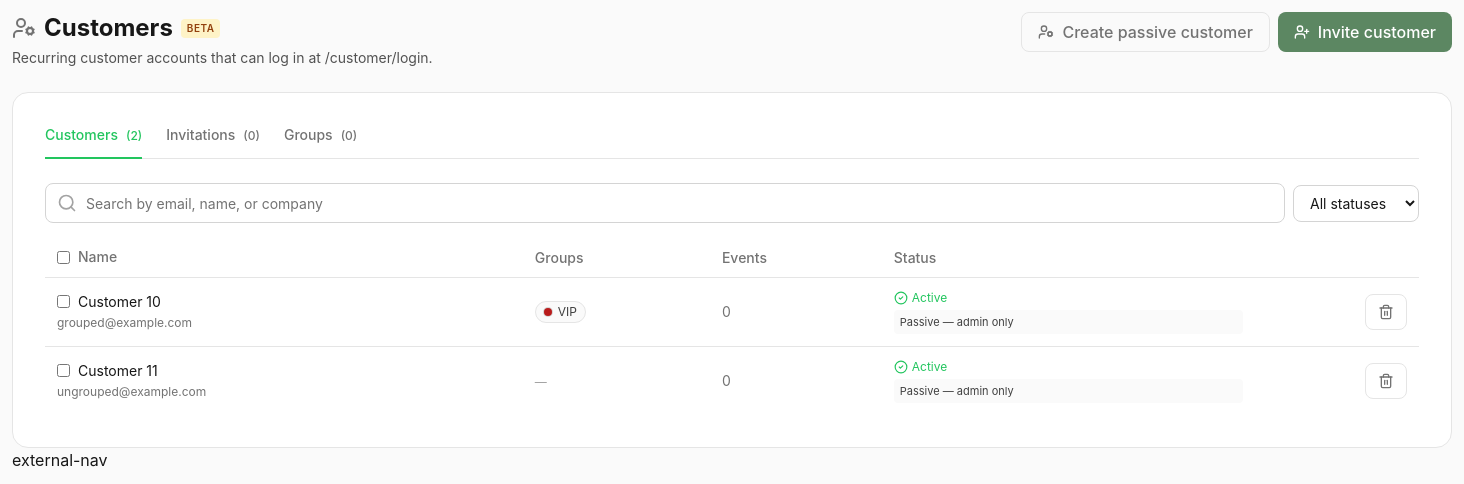
the catalogue tab › shows an empty state when there is no group yet
Expected: the text "grouped@example.com" is shown, [57,315,192,330]
Click the button "Groups(0)": (321, 142) [284,125,357,159]
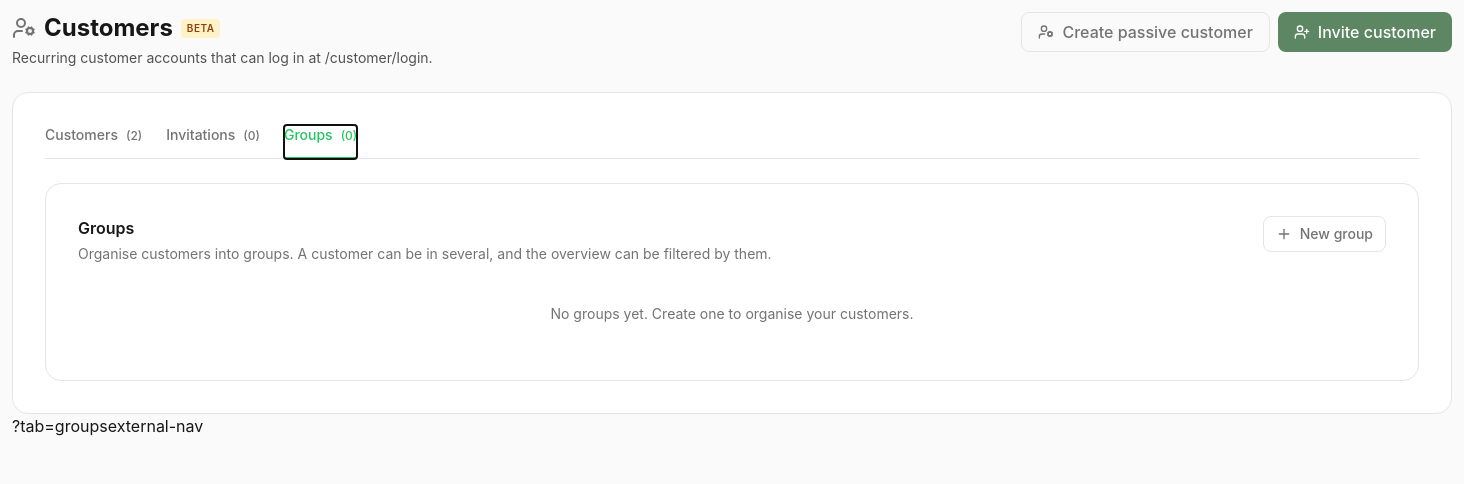
Now the text "No groups yet. Create one to organise your customers." is shown, box [550,305,914,322]
